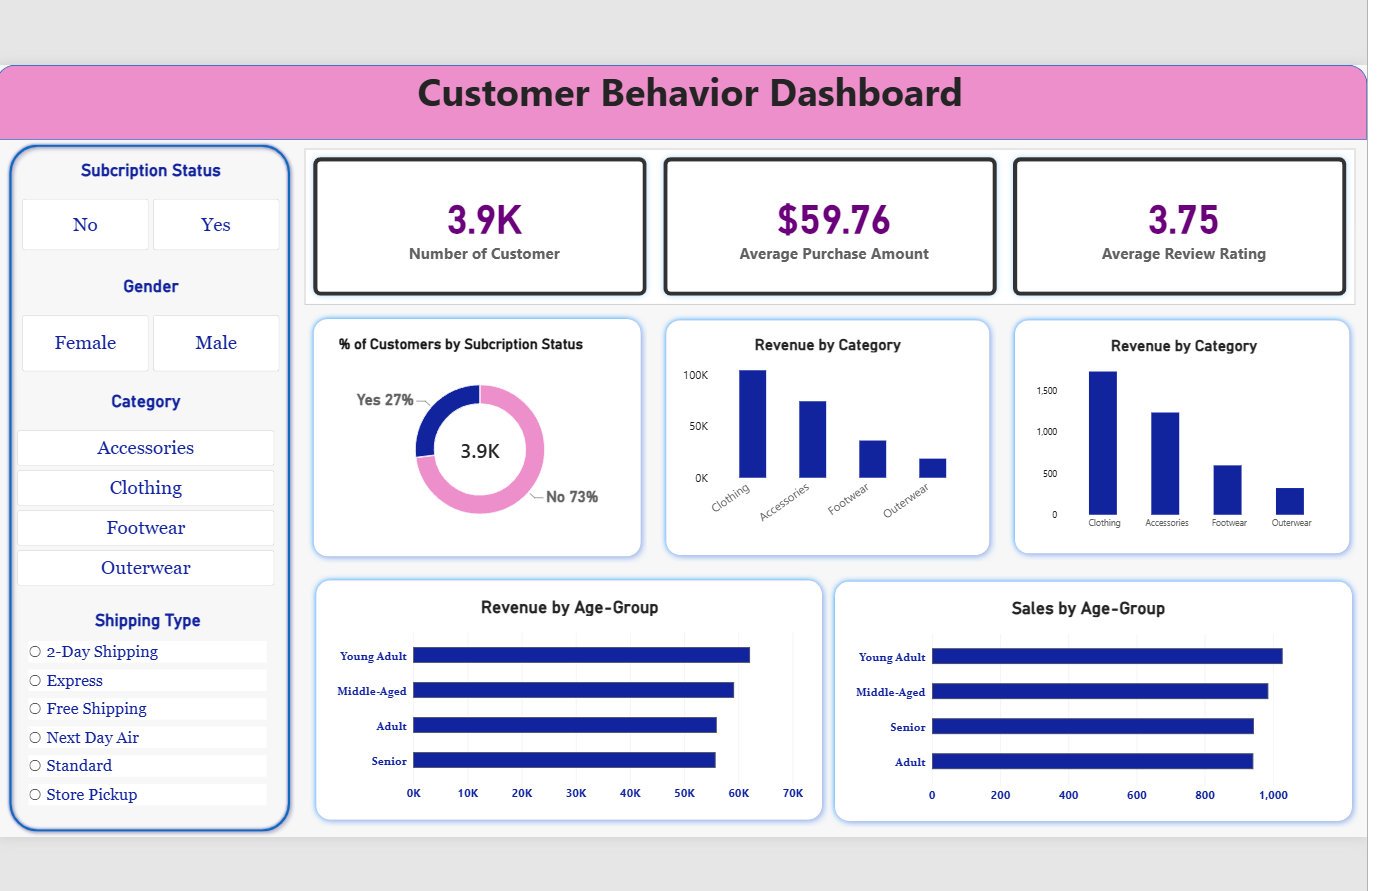

Layout of this report page (visuals, bound fields, positions):
{"tool":"powerbi","page":{"name":"Page 1","canvas":[1920,1080],"ordinal":0},"visuals":[{"type":"cardVisual","fields":{"Data":["customer_behavior customer_table.Number of Customer","customer_behavior customer_table.Average Purchase Amount","customer_behavior customer_table.Average Review Rating"]},"box":[432.4,117.3,1472.2,218.8],"z":0},{"type":"shape","box":[435.9,346.6,476.2,350.6],"z":0,"group":"g3"},{"type":"shape","box":[1418,347.7,486.7,344.9],"z":0,"group":"g5"},{"type":"shape","box":[929.5,348.4,470.9,347.1],"z":0,"group":"g4"},{"type":"group","id":"g1","title":"Group 1","box":[439.4,712.5,726.5,353.6],"z":0,"group":"g8"},{"type":"shape","box":[439.4,712.5,726.5,353.6],"z":0,"group":"g1"},{"type":"group","id":"g2","title":"Group 1","box":[1166.1,713.8,742.2,353.6],"z":0,"group":"g9"},{"type":"shape","box":[1166.1,713.8,742.2,353.6],"z":0,"group":"g2"},{"type":"shape","box":[0,0,1920.4,104.7],"z":1000},{"type":"donutChart","title":"% of Customers by Subcription Status","fields":{"Category":["customer_behavior customer_table.subscription_status"],"Y":["CountNonNull(customer_behavior customer_table.customer_id)"]},"box":[463.3,363.7,427.7,310.6],"z":1000,"group":"g3"},{"type":"clusteredBarChart","title":"Revenue by Age-Group","fields":{"Category":["customer_behavior customer_table.age_group"],"Y":["Sum(customer_behavior customer_table.purchase_amount)"]},"box":[460.4,730,686.2,322.1],"z":1000,"group":"g8"},{"type":"clusteredBarChart","title":"Sales by Age-Group","fields":{"Category":["customer_behavior customer_table.age_group"],"Y":["CountNonNull(customer_behavior customer_table.customer_id)"]},"box":[1186.9,731.7,686.2,322.1],"z":1000,"group":"g9"},{"type":"textbox","box":[214.5,0,1514,104.7],"z":2000},{"type":"group","id":"g3","title":"Group 1","box":[435.9,346.6,476.2,350.1],"z":3000},{"type":"shape","box":[12.3,105,406.1,975.1],"z":4000},{"type":"group","id":"g4","title":"Group 1","box":[929.5,348.4,470.9,347.1],"z":4000,"group":"g6"},{"type":"advancedSlicerVisual","title":"Subcription Status","fields":{"Values":["customer_behavior customer_table.subscription_status"]},"box":[36.8,133,360.6,147],"z":5000},{"type":"group","id":"g5","title":"Group 1","box":[1418,347.7,486.7,344.9],"z":5000,"group":"g7"},{"type":"group","id":"g6","title":"Group 2","box":[929.5,348.4,470.9,348.4],"z":6000},{"type":"clusteredColumnChart","title":"Revenue by Category","fields":{"Category":["customer_behavior customer_table.category"],"Y":["Sum(customer_behavior customer_table.purchase_amount)"]},"box":[945.1,364.9,439.4,310.5],"z":6000,"group":"g6"},{"type":"group","id":"g7","title":"Group 3","box":[1418,347.7,486.7,344.9],"z":7000},{"type":"clusteredColumnChart","title":"Revenue by Category","fields":{"Category":["customer_behavior customer_table.category"],"Y":["CountNonNull(customer_behavior customer_table.customer_id)"]},"box":[1440.7,365.7,446.4,304.6],"z":7000,"group":"g7"},{"type":"advancedSlicerVisual","title":"Gender","fields":{"Values":["customer_behavior customer_table.gender"]},"box":[36.8,295.8,360.6,154],"z":8000},{"type":"advancedSlicerVisual","title":"Category","fields":{"Values":["customer_behavior customer_table.category"]},"box":[29.8,456.9,360.6,292.3],"z":9000},{"type":"listSlicer","fields":{"Values":["customer_behavior customer_table.shipping_type"]},"box":[29.8,749.2,365.9,304.6],"z":10000},{"type":"group","id":"g8","title":"Group 4","box":[439.4,712.5,726.5,353.6],"z":11000},{"type":"group","id":"g9","title":"Group 4","box":[1166.1,713.8,742.2,353.6],"z":12000}]}

Visuals, with their boxes on the page's 1920x1080 design canvas (x1, y1, x2, y2). These are canvas units, not pixel positions in the 1377x891 screenshot, which may show the page scaled, cropped or inside an application window:
cardVisual - customer_behavior customer_table.Number of Customer x customer_behavior customer_table.Average Purchase Amount: <bbox>432, 117, 1905, 336</bbox>
shape: <bbox>436, 347, 912, 697</bbox>
shape: <bbox>1418, 348, 1905, 693</bbox>
shape: <bbox>930, 348, 1400, 696</bbox>
"Group 1" group: <bbox>439, 712, 1166, 1066</bbox>
shape: <bbox>439, 712, 1166, 1066</bbox>
"Group 1" group: <bbox>1166, 714, 1908, 1067</bbox>
shape: <bbox>1166, 714, 1908, 1067</bbox>
shape: <bbox>0, 0, 1920, 105</bbox>
"% of Customers by Subcription Status" donutChart: <bbox>463, 364, 891, 674</bbox>
"Revenue by Age-Group" clusteredBarChart: <bbox>460, 730, 1147, 1052</bbox>
"Sales by Age-Group" clusteredBarChart: <bbox>1187, 732, 1873, 1054</bbox>
textbox: <bbox>214, 0, 1728, 105</bbox>
"Group 1" group: <bbox>436, 347, 912, 697</bbox>
shape: <bbox>12, 105, 418, 1080</bbox>
"Group 1" group: <bbox>930, 348, 1400, 696</bbox>
"Subcription Status" advancedSlicerVisual: <bbox>37, 133, 397, 280</bbox>
"Group 1" group: <bbox>1418, 348, 1905, 693</bbox>
"Group 2" group: <bbox>930, 348, 1400, 697</bbox>
"Revenue by Category" clusteredColumnChart: <bbox>945, 365, 1384, 675</bbox>
"Group 3" group: <bbox>1418, 348, 1905, 693</bbox>
"Revenue by Category" clusteredColumnChart: <bbox>1441, 366, 1887, 670</bbox>
"Gender" advancedSlicerVisual: <bbox>37, 296, 397, 450</bbox>
"Category" advancedSlicerVisual: <bbox>30, 457, 390, 749</bbox>
listSlicer - customer_behavior customer_table.shipping_type: <bbox>30, 749, 396, 1054</bbox>
"Group 4" group: <bbox>439, 712, 1166, 1066</bbox>
"Group 4" group: <bbox>1166, 714, 1908, 1067</bbox>
